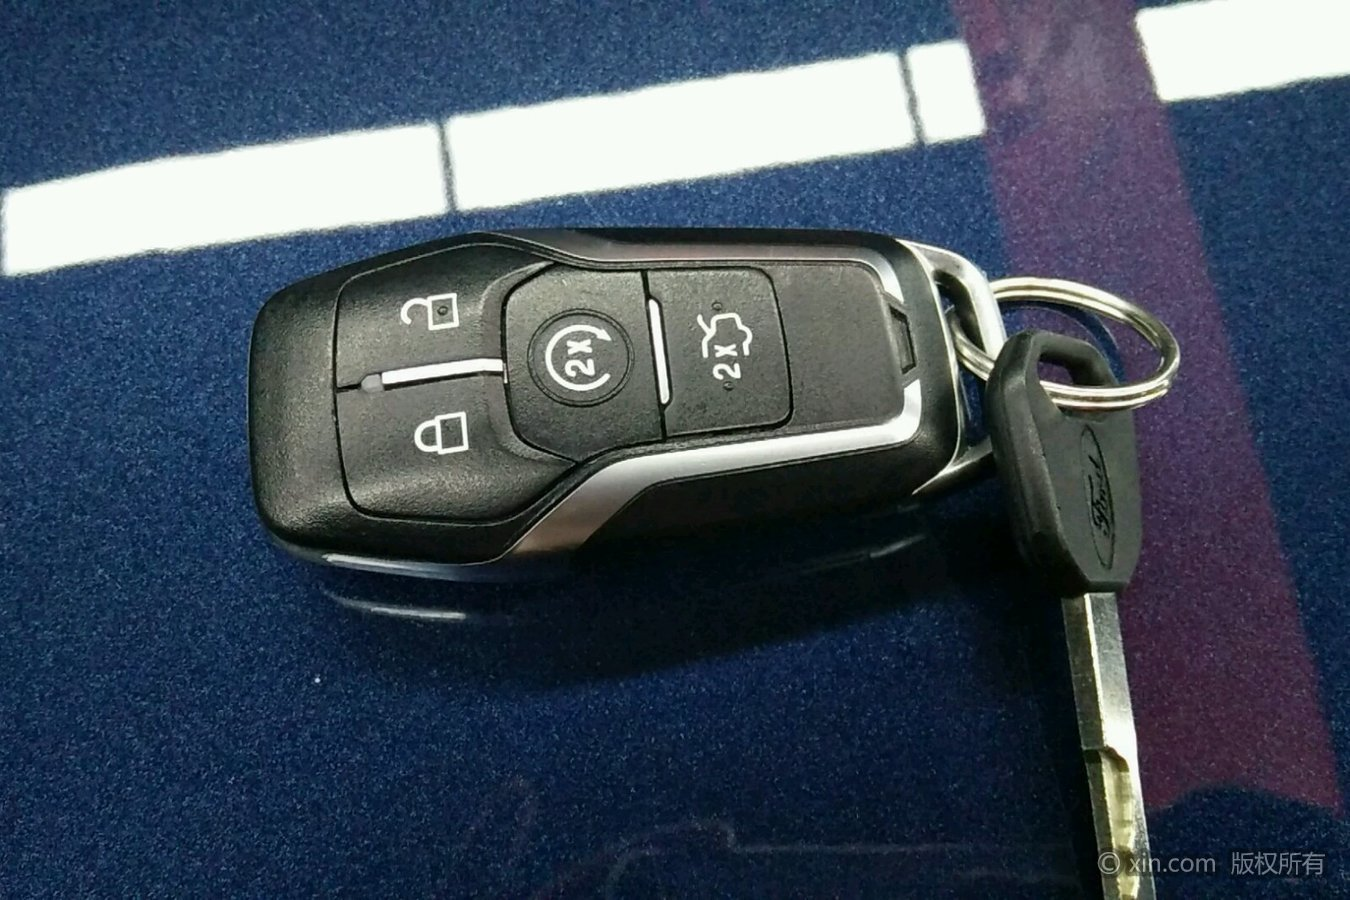key: (986, 315, 1172, 893)
